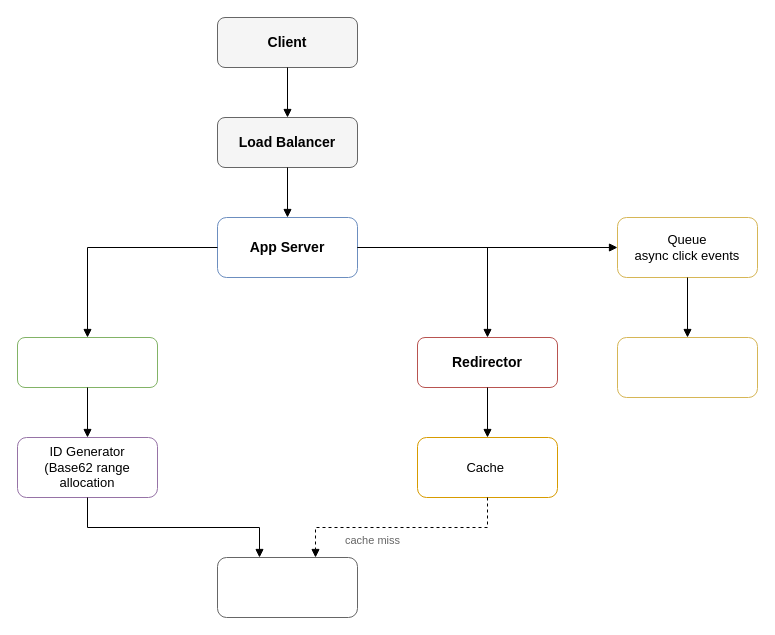
Some shapes in this 775 by 635 pixel diagram are drawn without their labels. The shapes that lost their labels are listed below. From the top down, each one's box as (x1, y1, x2, y2) in pixels, then its label:
(16, 336, 158, 388): URL Shortener
(616, 336, 758, 398): Analytics DB
(216, 556, 358, 618): Database short_code -> long_url
